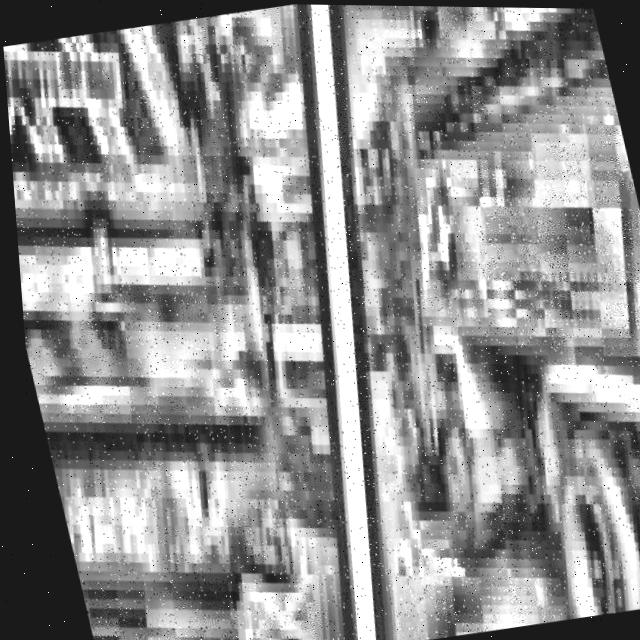dump_truck: (0, 0, 429, 640), (221, 3, 640, 640)
